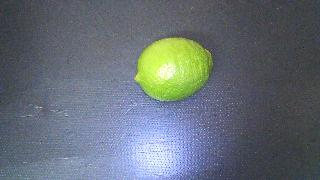EXPORTACION: (134, 38, 213, 101)
